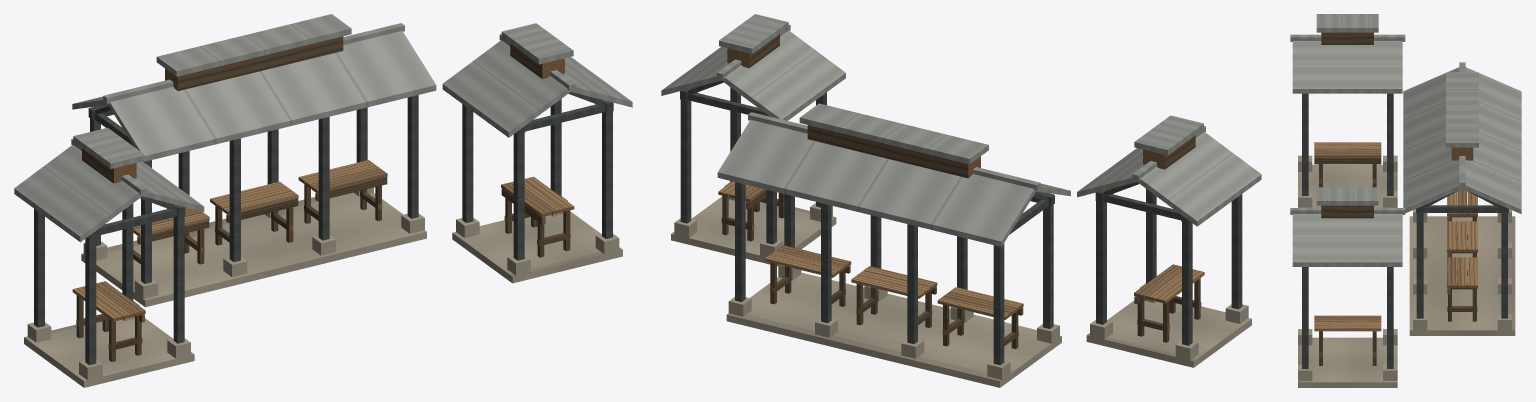
File: benin-city.glb
The picture shows the model from 3 angles, left to right: view 1: azimuth 30°, elevation 25°; view 2: azimuth 150°, elevation 25°; view 3: azimuth 270°, elevation 25°; orthographic projection. The views are drawn at different scales.
Visible parts, largest first — view 1: benin-city; view 2: benin-city; view 3: benin-city.
Part boxes in pixels (x1,y1,x2,y2): benin-city: (14, 14, 632, 387); benin-city: (661, 14, 1261, 387); benin-city: (1290, 14, 1521, 387).
Size of the model in its own units: 7.26 by 2.6 by 3.18.
1 material, 1 textured.
